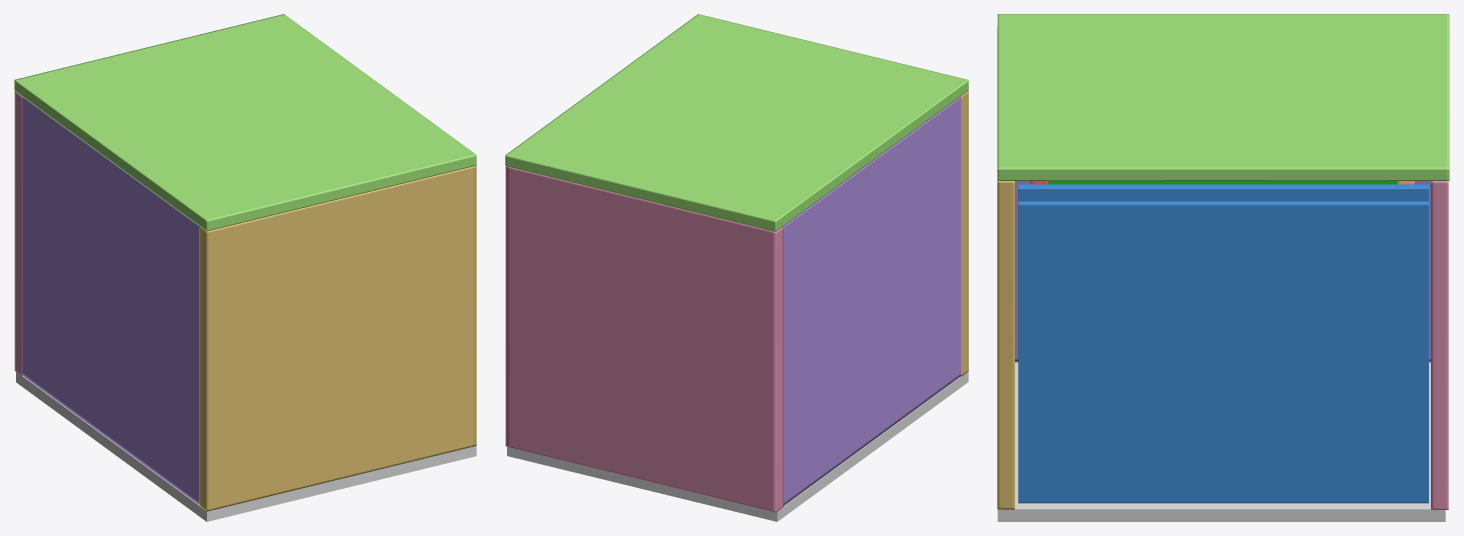
The model's file is DrawerCabinet.glb.
3 renders of one model, left to right at view 1: azimuth 30°, elevation 25°; view 2: azimuth 150°, elevation 25°; view 3: azimuth 270°, elevation 25°, orthographic. The views are drawn at different scales.
Visible parts, largest first — view 1: left plank.003, top plank.003, back plank.003, bottom plank.003, right plank.003; view 2: right plank.003, top plank.003, back plank.003, bottom plank.003, left plank.003; view 3: drawer back.001, top plank.003, bottom plank.003, left plank.003, right plank.003, drawer back, back plank.003.
Boxes of the visible parts, box(x1,y1,x2,y2) form: left plank.003: box(199, 165, 476, 511); top plank.003: box(14, 14, 476, 231); back plank.003: box(22, 96, 199, 504); bottom plank.003: box(16, 372, 476, 521); right plank.003: box(14, 91, 22, 375); right plank.003: box(505, 166, 783, 512); top plank.003: box(505, 14, 968, 231); back plank.003: box(783, 96, 960, 505); bottom plank.003: box(507, 371, 968, 521); left plank.003: box(961, 91, 968, 376); drawer back.001: box(1018, 184, 1428, 503); top plank.003: box(997, 14, 1449, 180); bottom plank.003: box(997, 362, 1445, 521); left plank.003: box(997, 27, 1014, 509); right plank.003: box(1431, 181, 1448, 509); drawer back: box(1048, 181, 1396, 184); back plank.003: box(1015, 181, 1430, 362).
Size of the model in its own units: 1.25 by 1.34 by 1.55.
